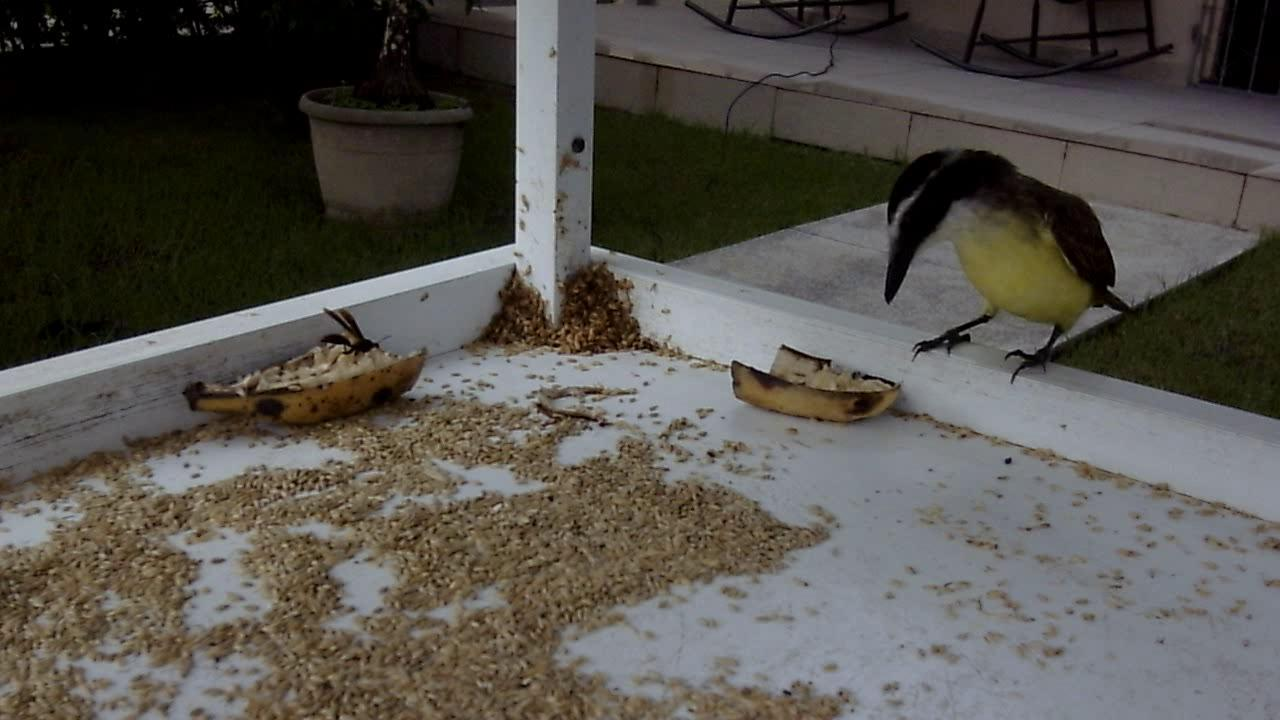bem_te_vi: (868, 137, 1149, 397)
